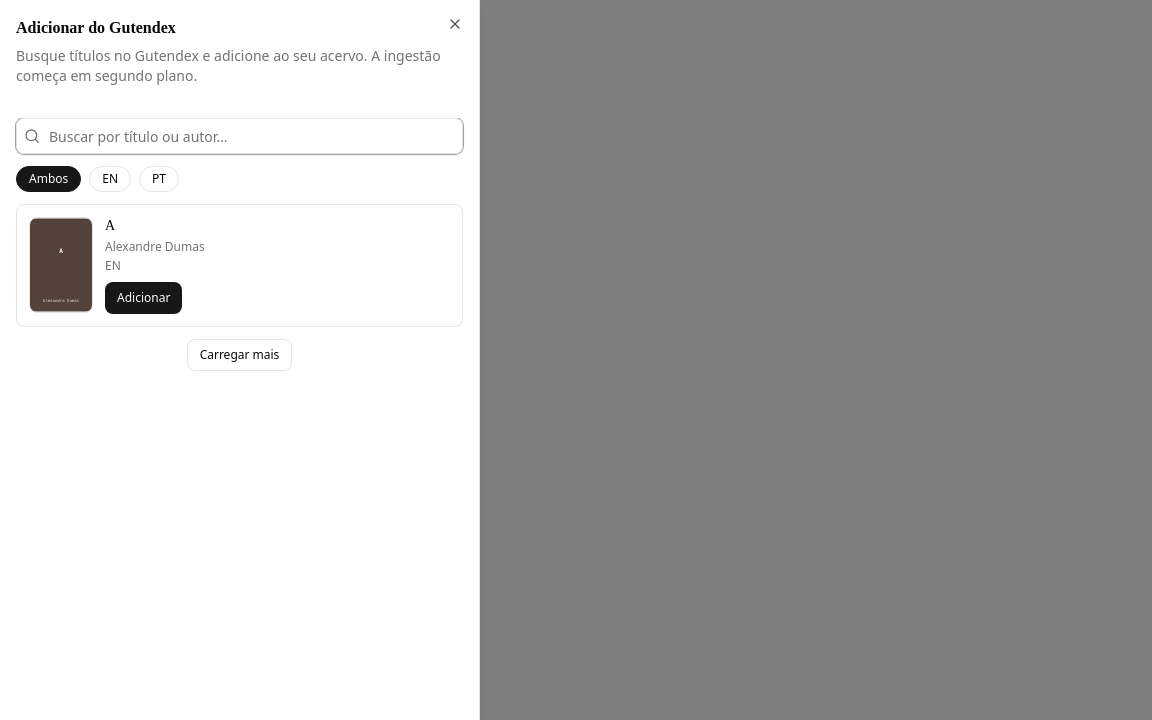
AddGutendexSheet › "Carregar mais" appends the next page
Expected: the number of list items is 1, x1=16 y1=204 x2=463 y2=326
Click the button "Carregar mais" at (240,354), box x1=187 y1=338 x2=292 y2=370
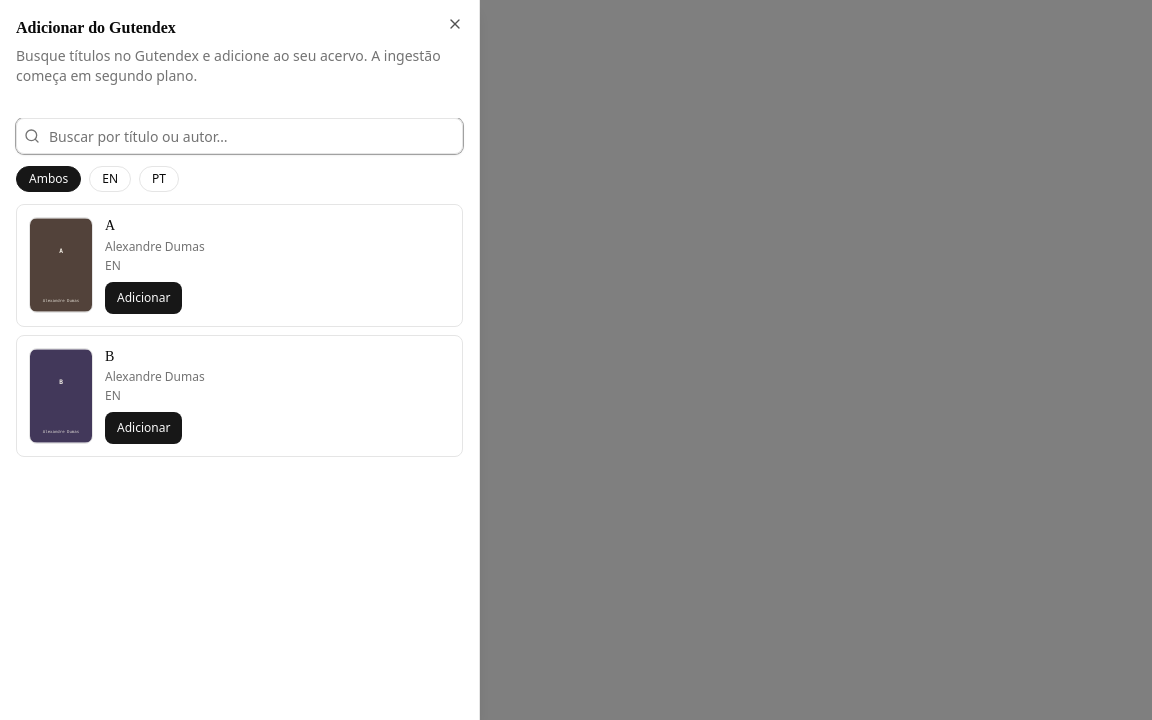
Expected: the number of list items is 2, x1=16 y1=204 x2=463 y2=326; x1=16 y1=334 x2=463 y2=457
